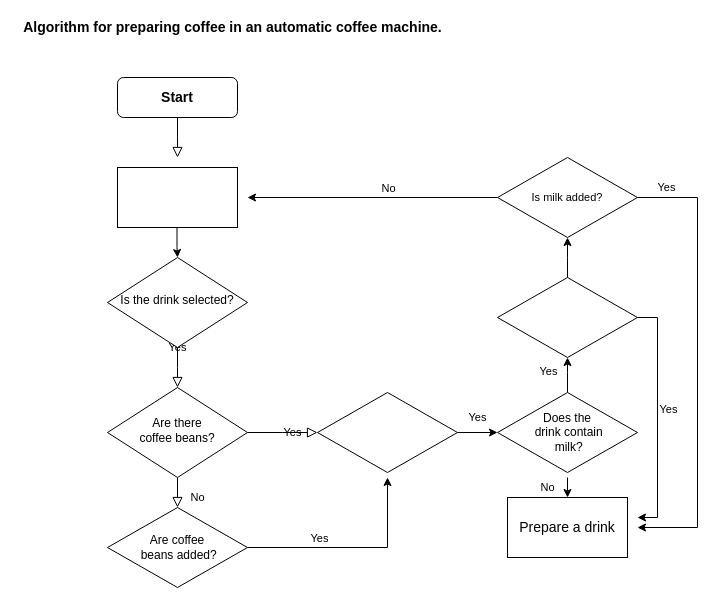
Image size: 723x605. Some labels were removed from this diagram. Each missing label, with the box of its shape:
Go to the list of drinks: (116, 166, 238, 228)
Is there milk in the milk container?: (496, 276, 638, 358)
Is there water in the water compartment?: (316, 392, 458, 472)
